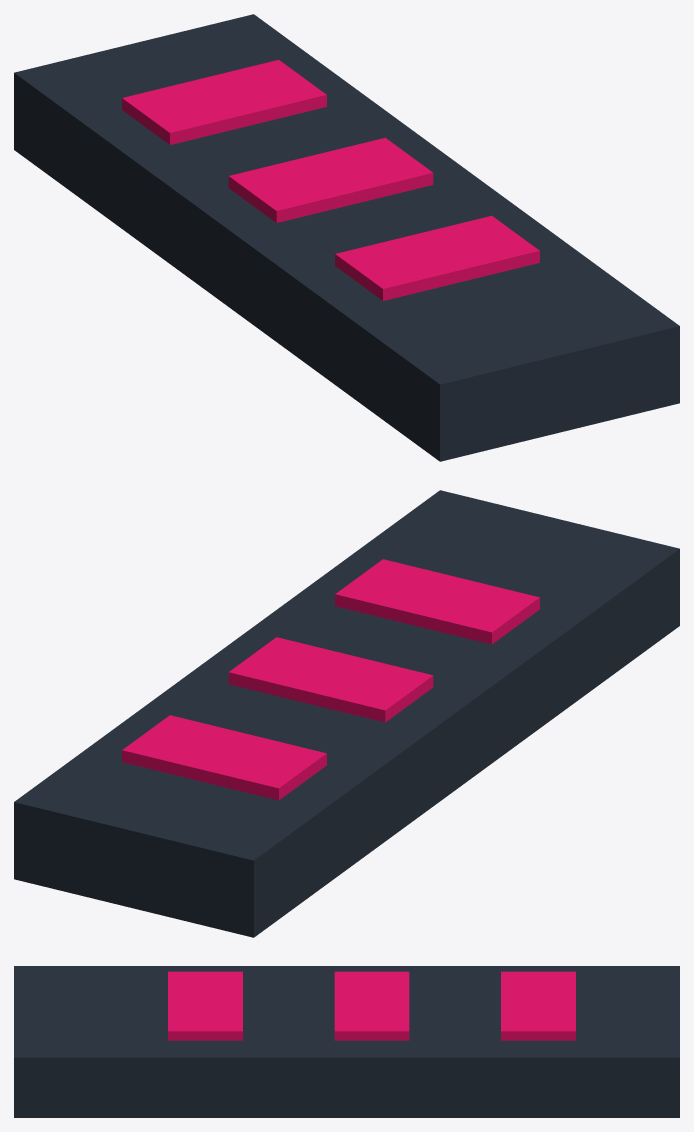
Rendered from ENV_prop_neon_sign.obj.
3 renders of one model, top to bottom at view 1: azimuth 30°, elevation 25°; view 2: azimuth 150°, elevation 25°; view 3: azimuth 270°, elevation 25°, orthographic. The views are drawn at different scales.
Visible parts, largest first — view 1: ENV_prop_neon_sign; view 2: ENV_prop_neon_sign; view 3: ENV_prop_neon_sign.
Part boxes in pixels (<box>): ENV_prop_neon_sign: <box>14,14,679,461</box>; ENV_prop_neon_sign: <box>14,490,679,937</box>; ENV_prop_neon_sign: <box>14,966,679,1117</box>.
Size of the model in its own units: 0.52 by 0.1875 by 1.6.
